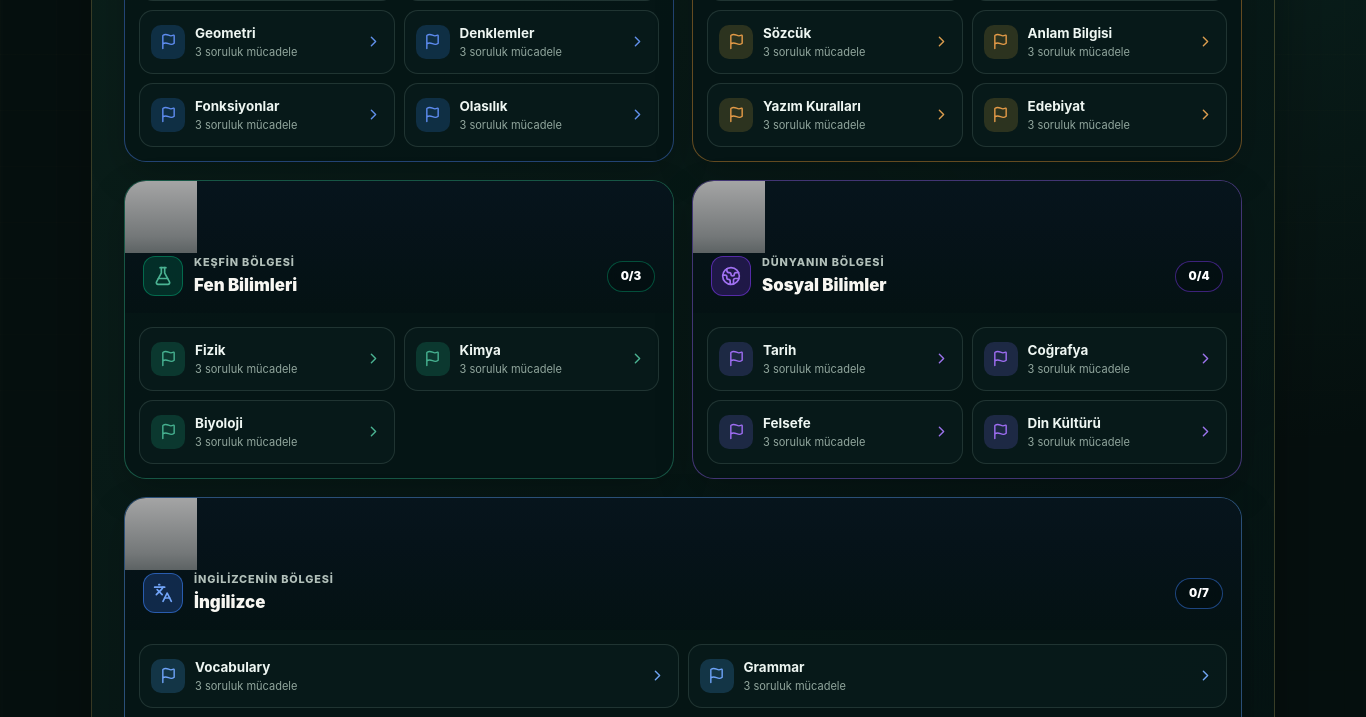
FethetClient — wordquest (İngilizce) akışı › TYT Sosyal için policy-aware random yüzeyini kullanır ve seçim gereksinimini açıklar
The width and height of the screenshot is (1366, 717).
(page scrolled)
Click the button "Tarih 3 soruluk mücadele": (835, 359) [707,327,962,391]
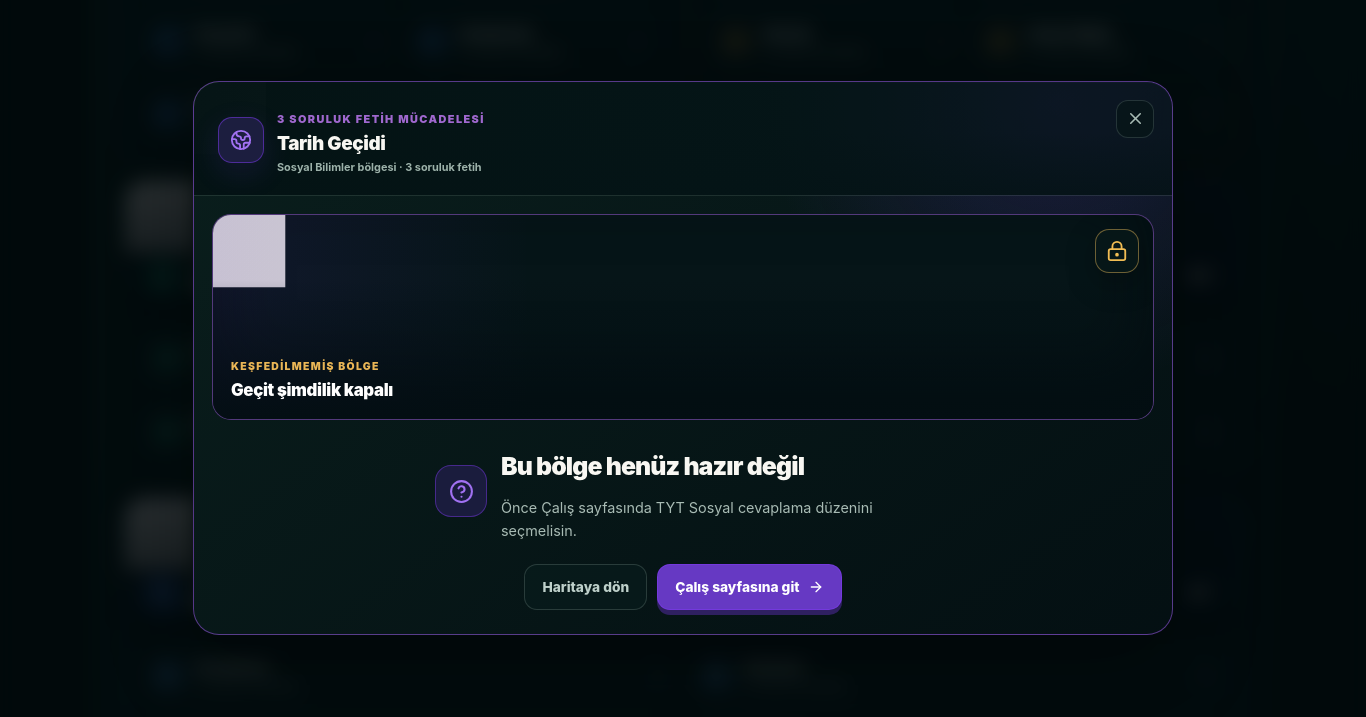
Expected: the text "Önce Çalış sayfasında TYT Sosyal" is shown, [501,499,873,539]
